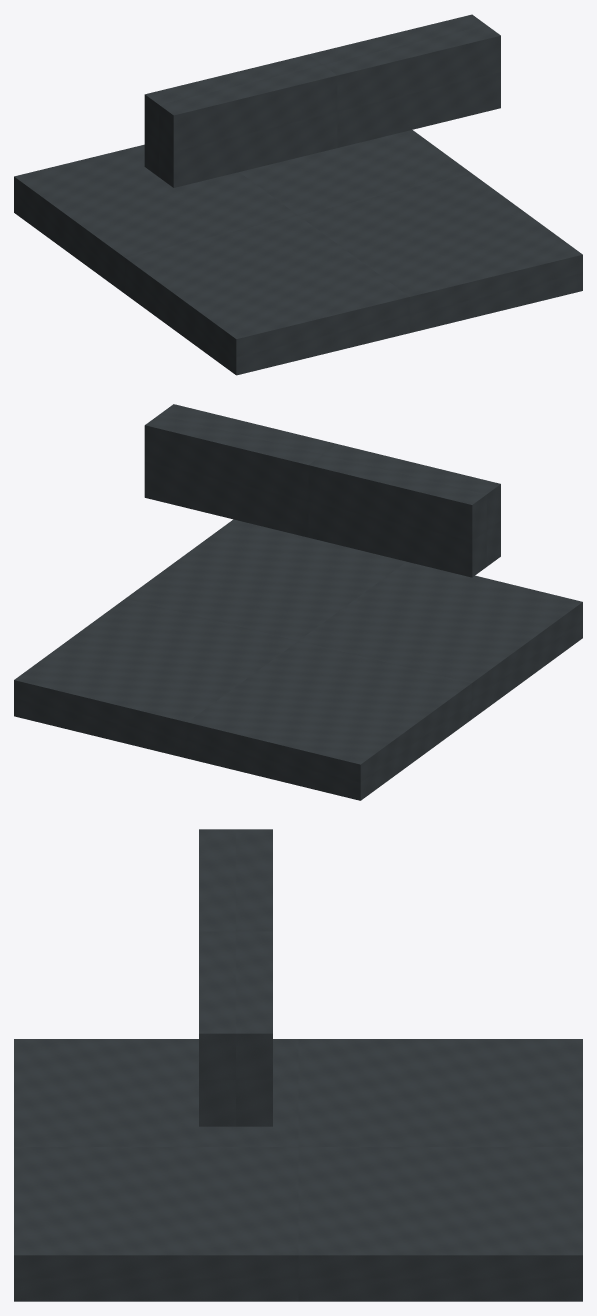
Rendered from Buffer_Stop_Collision.glb.
3 renders of one model, top to bottom at view 1: azimuth 30°, elevation 25°; view 2: azimuth 150°, elevation 25°; view 3: azimuth 270°, elevation 25°, orthographic. The views are drawn at different scales.
Parts seen in each view (by area): view 1: COL_TrackBed.002, COL_BufferImpact; view 2: COL_TrackBed.002, COL_BufferImpact; view 3: COL_TrackBed.002, COL_BufferImpact.
Boxes of the visible parts, x1,y1,x2,y2 form: COL_TrackBed.002: (14,130,582,375); COL_BufferImpact: (144,14,500,187); COL_TrackBed.002: (14,519,582,800); COL_BufferImpact: (144,404,500,577); COL_TrackBed.002: (14,1039,582,1301); COL_BufferImpact: (199,829,272,1126).
Size of the model in its own units: 0.9 by 0.508 by 1.
Materials: 1 (1 with a texture image).
